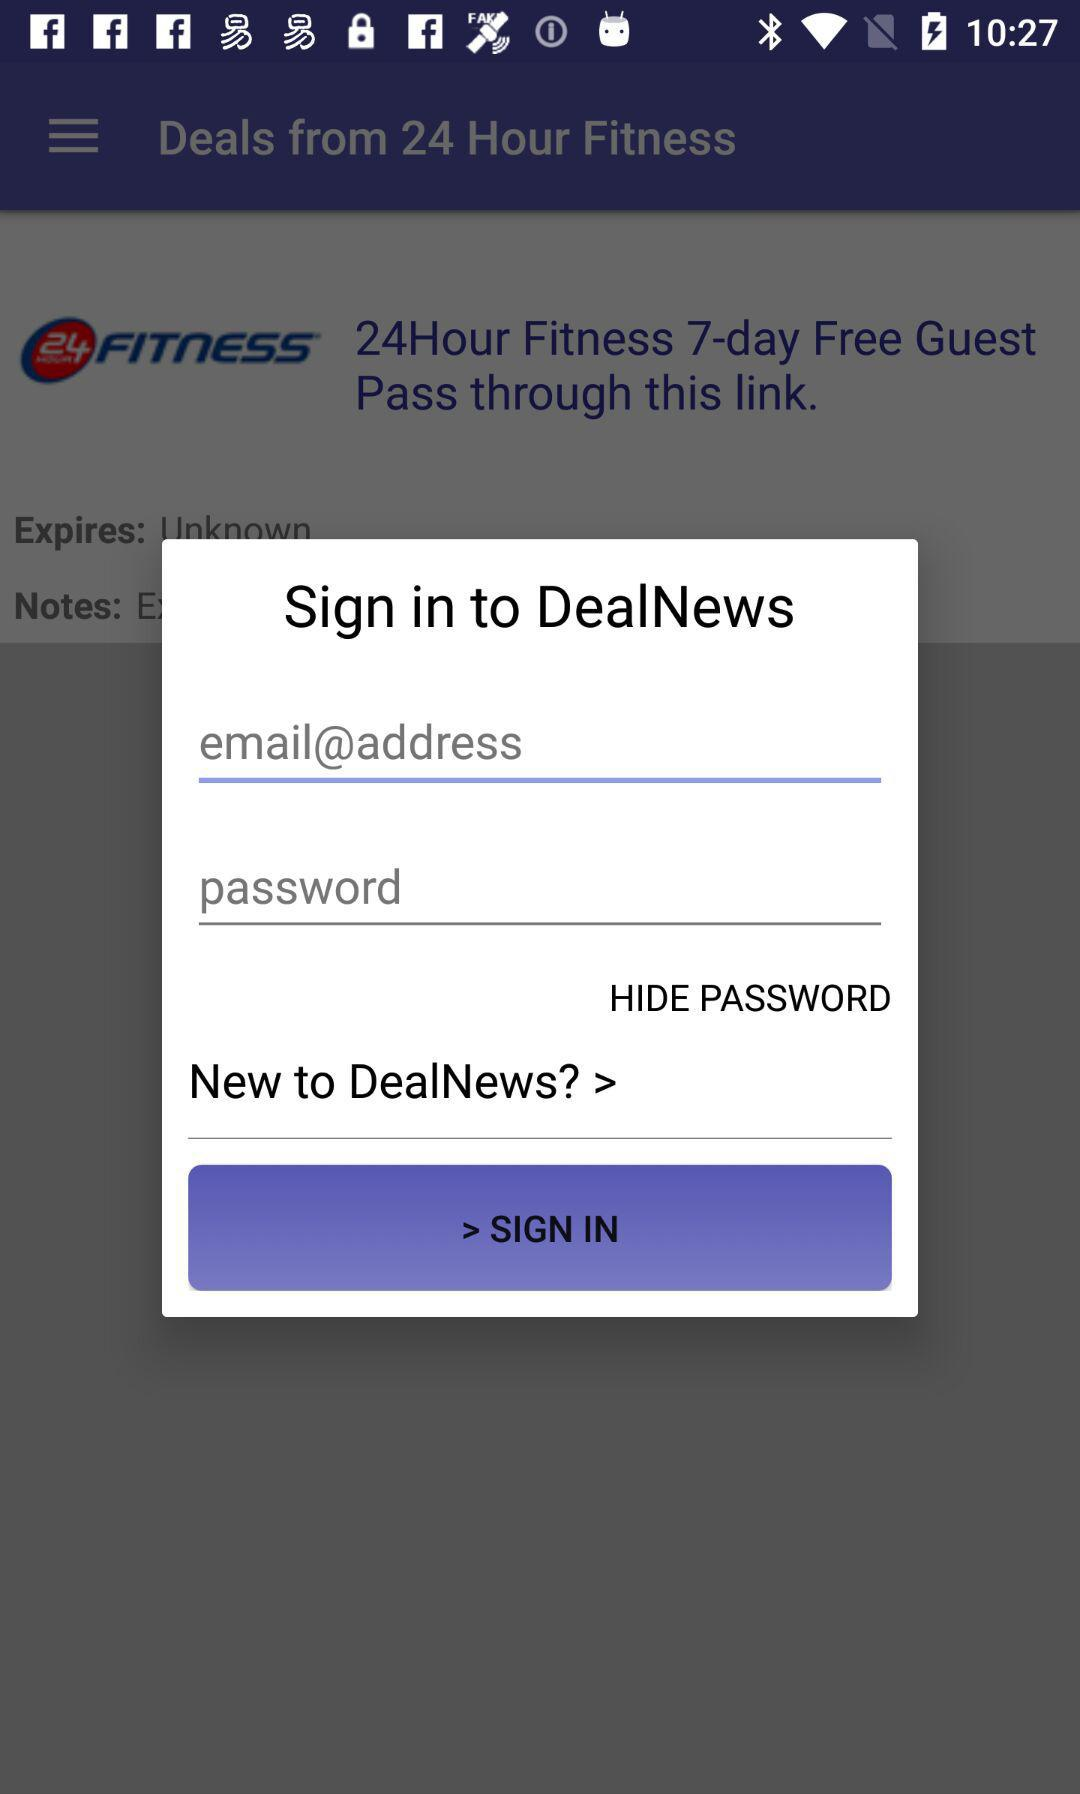EditText: (199, 721, 881, 784), (199, 868, 881, 926)
Icon: (47, 118, 100, 155)
Image: (20, 317, 322, 386)
Modal: (163, 539, 919, 1319)
Text: (357, 320, 1038, 413), (286, 584, 794, 641), (160, 120, 735, 158), (192, 1064, 618, 1099), (201, 724, 521, 771), (202, 868, 401, 915), (611, 984, 890, 1012), (17, 516, 146, 551), (15, 591, 122, 621)
TextButton: (188, 1165, 890, 1290)
UpperTaskBar: (1, 1, 1080, 64)
